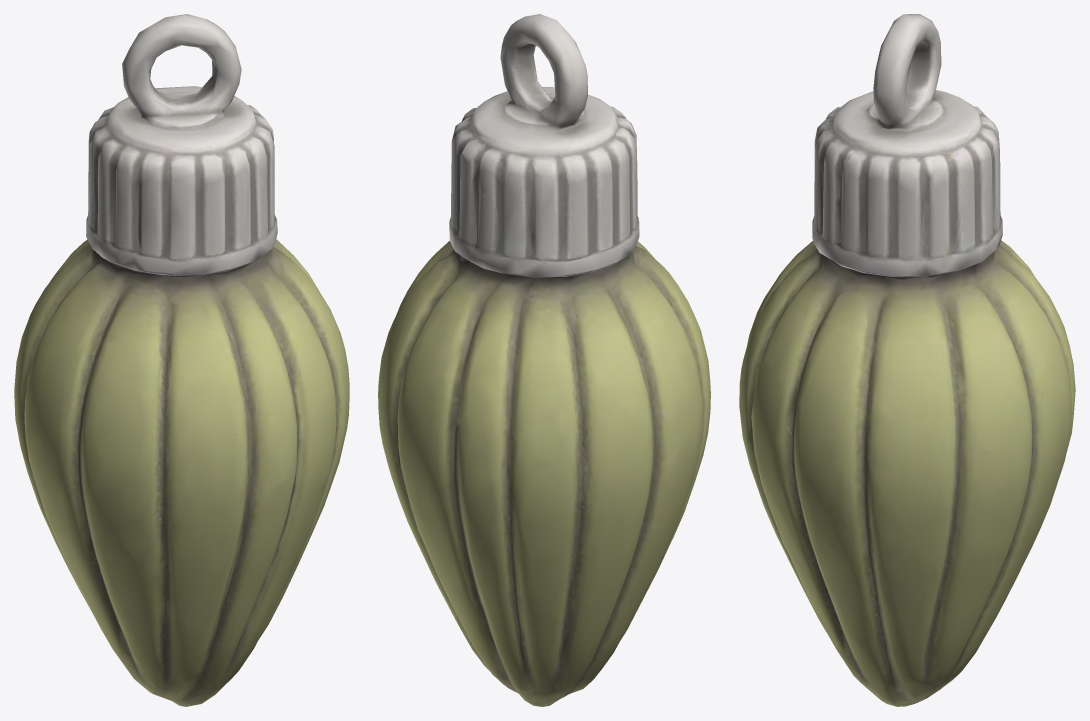
Rendered from orn_light.glb.
3 renders of one model, left to right at view 1: azimuth 30°, elevation 25°; view 2: azimuth 150°, elevation 25°; view 3: azimuth 270°, elevation 25°, orthographic.
Parts seen in each view (by area): view 1: tripo_node_4bd1e6b4-a853-408c-a4b0-feb5392ea6f7; view 2: tripo_node_4bd1e6b4-a853-408c-a4b0-feb5392ea6f7; view 3: tripo_node_4bd1e6b4-a853-408c-a4b0-feb5392ea6f7.
Boxes of the visible parts, x1,y1,x2,y2 form: tripo_node_4bd1e6b4-a853-408c-a4b0-feb5392ea6f7: [14, 14, 349, 706]; tripo_node_4bd1e6b4-a853-408c-a4b0-feb5392ea6f7: [378, 14, 710, 706]; tripo_node_4bd1e6b4-a853-408c-a4b0-feb5392ea6f7: [739, 14, 1075, 706].
Size of the model in its own units: 0.4403 by 1 by 0.4439.
Materials: 1 (1 with a texture image).
